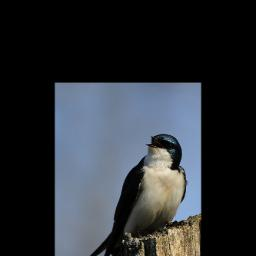Swallow: (87, 134, 187, 256)
